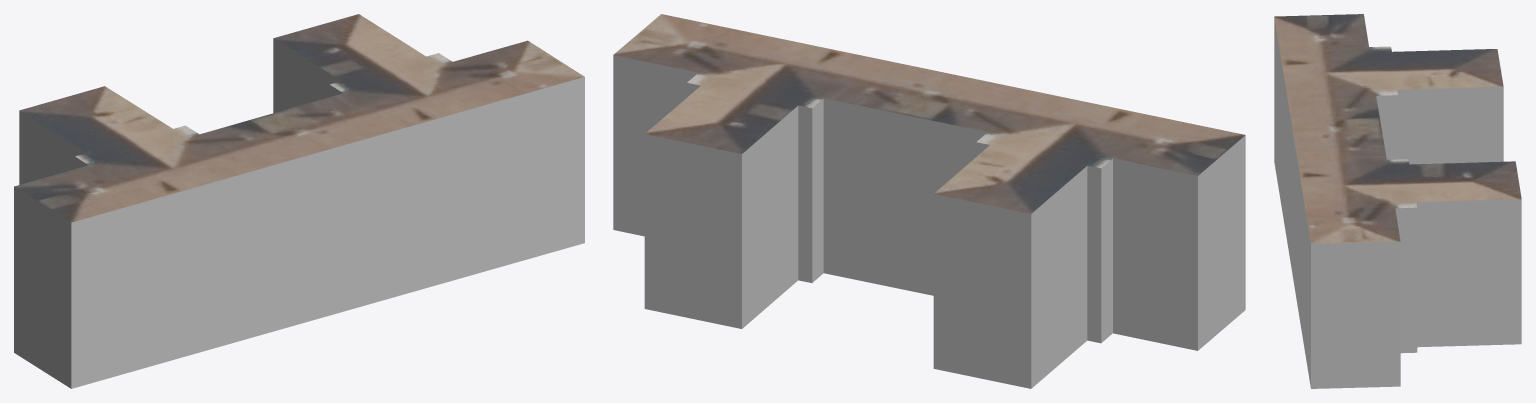
Rendered from DEBW_0010007Tx72.gltf.
3 renders of one model, left to right at view 1: azimuth 30°, elevation 25°; view 2: azimuth 150°, elevation 25°; view 3: azimuth 270°, elevation 25°, orthographic. The views are drawn at different scales.
Parts seen in each view (by area): view 1: Z_UP; view 2: Z_UP; view 3: Z_UP.
Boxes of the visible parts, box(x1,y1,x2,y2) form: Z_UP: box(14, 14, 584, 388); Z_UP: box(613, 14, 1245, 388); Z_UP: box(1274, 14, 1521, 388).
Bounding box in the file's own units: 53.21 × 15.65 × 24.2.
Materials: 2 (1 with a texture image).
